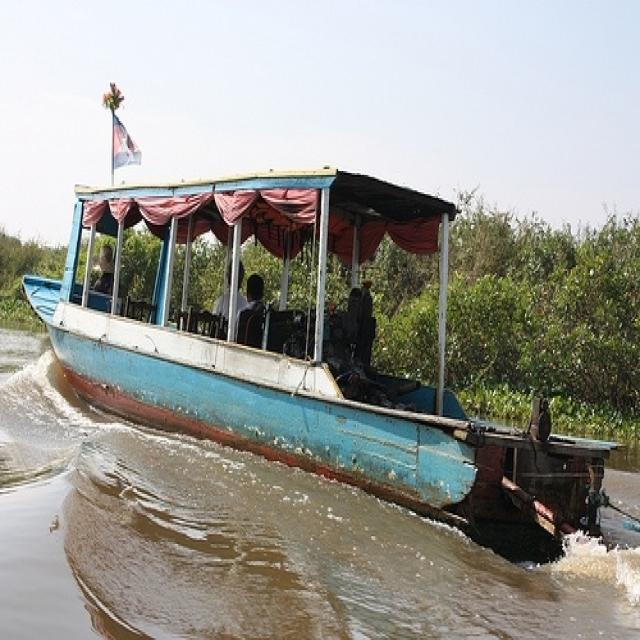Hyacinth: (455, 386, 638, 438)
boat: (15, 240, 607, 569)
